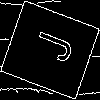J: (25, 25, 75, 65)
